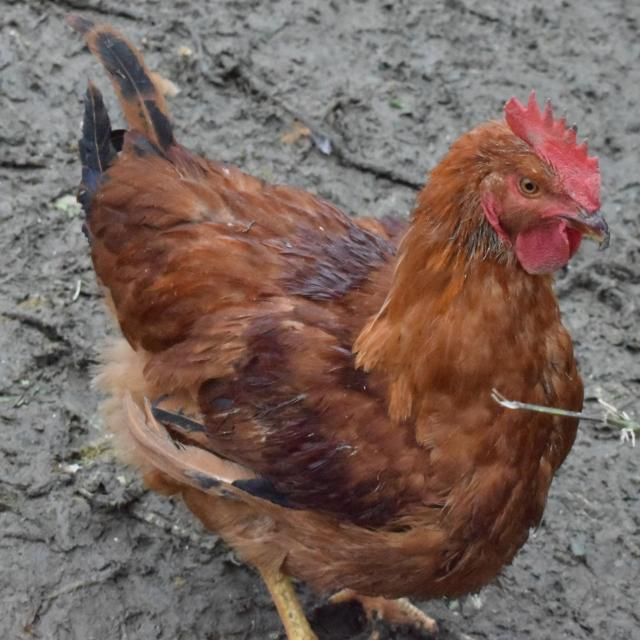cook: (70, 17, 609, 638)
